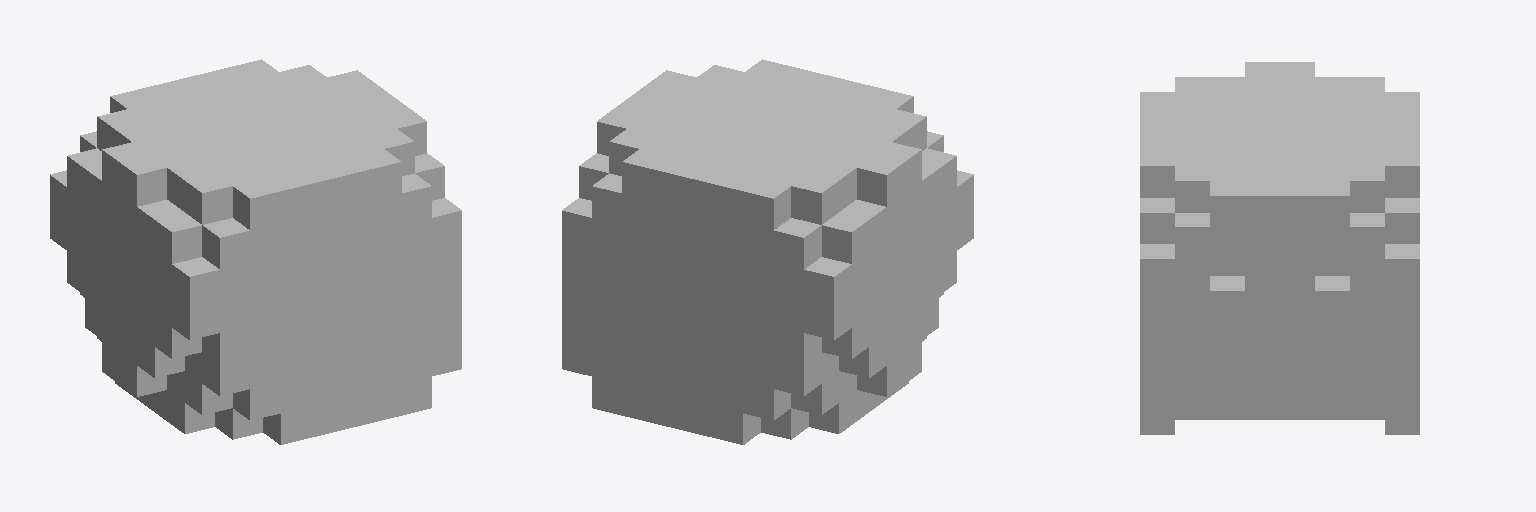
File: monster_s.obj
3 renders of one model, left to right at view 1: azimuth 30°, elevation 25°; view 2: azimuth 150°, elevation 25°; view 3: azimuth 270°, elevation 25°, orthographic.
Visible parts, largest first — view 1: monster1; view 2: monster1; view 3: monster1.
Part boxes in pixels (x1,y1,x2,y2): monster1: (50,59,461,444); monster1: (562,59,973,444); monster1: (1140,62,1419,434).
Bounding box in the file's own units: 0.9 × 0.8 × 0.8.